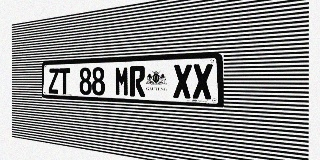8: (79, 67, 92, 95), (92, 67, 105, 95)
M: (115, 66, 129, 96)
R: (130, 66, 145, 97)
T: (59, 68, 70, 94)
X: (192, 64, 213, 99), (173, 64, 192, 99)
Z: (48, 68, 59, 94)
